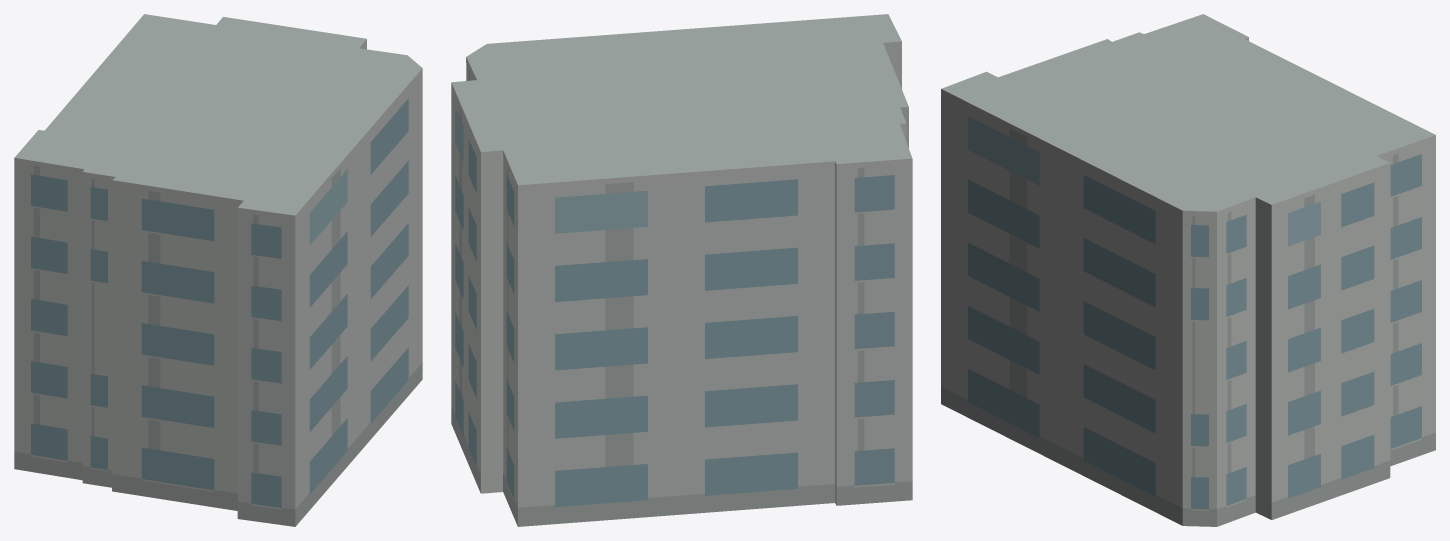
Rendered from survey-upis-32483556.glb.
3 views of the same model, side by side, from view 1: azimuth 30°, elevation 25°; view 2: azimuth 150°, elevation 25°; view 3: azimuth 270°, elevation 25° (orthographic). The views are drawn at different scales.
Visible parts, largest first — view 1: survey-upis-32483556.tmp; view 2: survey-upis-32483556.tmp; view 3: survey-upis-32483556.tmp.
Boxes of the visible parts, x1,y1,x2,y2 form: survey-upis-32483556.tmp: (14, 14, 422, 526); survey-upis-32483556.tmp: (451, 14, 912, 526); survey-upis-32483556.tmp: (941, 14, 1435, 526).
Size of the model in its own units: 20.58 by 15.3 by 21.77.
